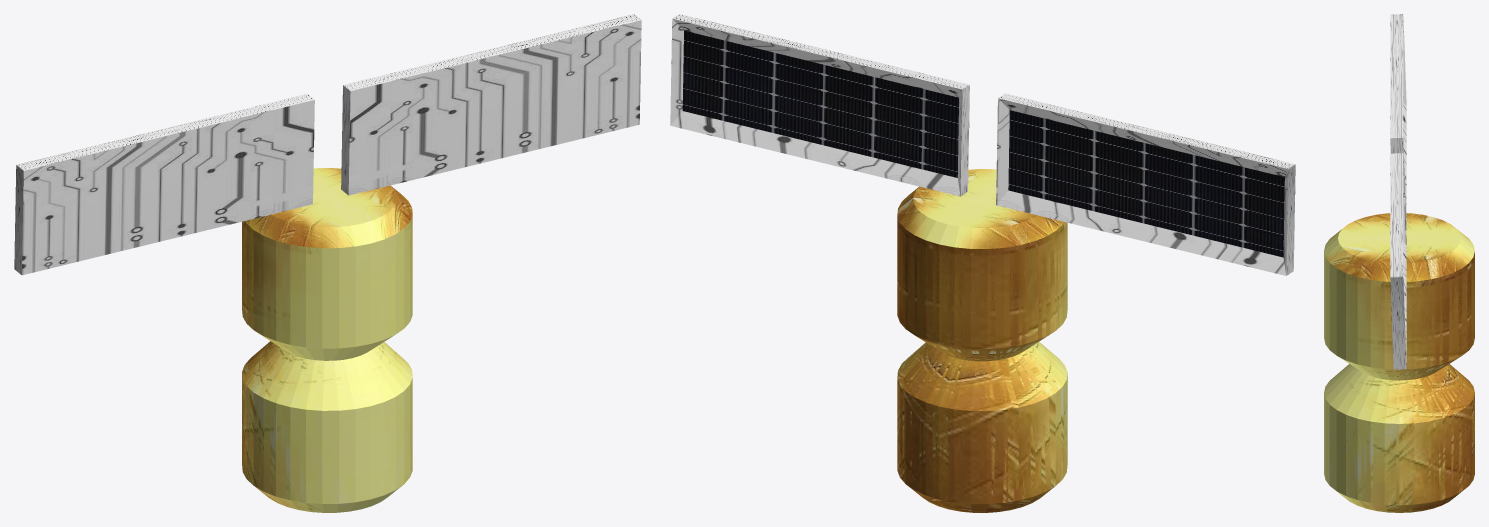
File: SpaceTrash3.fbx
The picture shows the model from 3 angles, left to right: view 1: azimuth 30°, elevation 25°; view 2: azimuth 150°, elevation 25°; view 3: azimuth 270°, elevation 25°; orthographic projection. The views are drawn at different scales.
Parts seen in each view (by area): view 1: 실린더; view 2: 실린더; view 3: 실린더.
Part boxes in pixels (x1=…): 실린더: x1=14, y1=14, x2=641, y2=512; 실린더: x1=670, y1=14, x2=1295, y2=512; 실린더: x1=1324, y1=14, x2=1474, y2=512.
Bounding box in the file's own units: 2987 × 1817 × 725.
